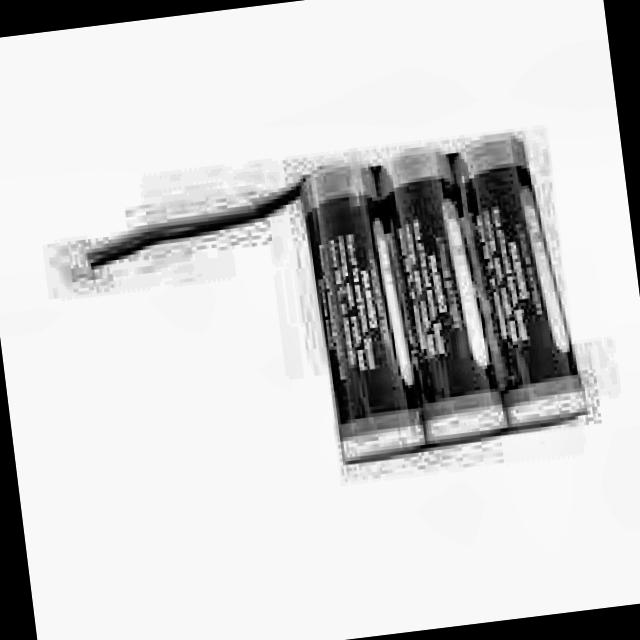Battery: (377, 144, 508, 442), (454, 130, 585, 427), (301, 158, 423, 462)
